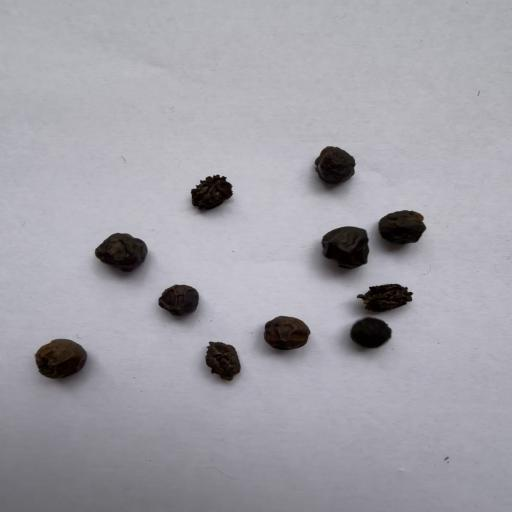Black_pepper: (72, 210, 163, 268), (339, 314, 416, 370), (299, 136, 365, 188), (34, 334, 110, 379), (375, 202, 447, 246), (152, 271, 222, 316), (315, 221, 368, 267), (257, 315, 324, 350)
papaya_seed: (185, 172, 258, 221), (352, 268, 423, 307), (206, 338, 252, 383)
